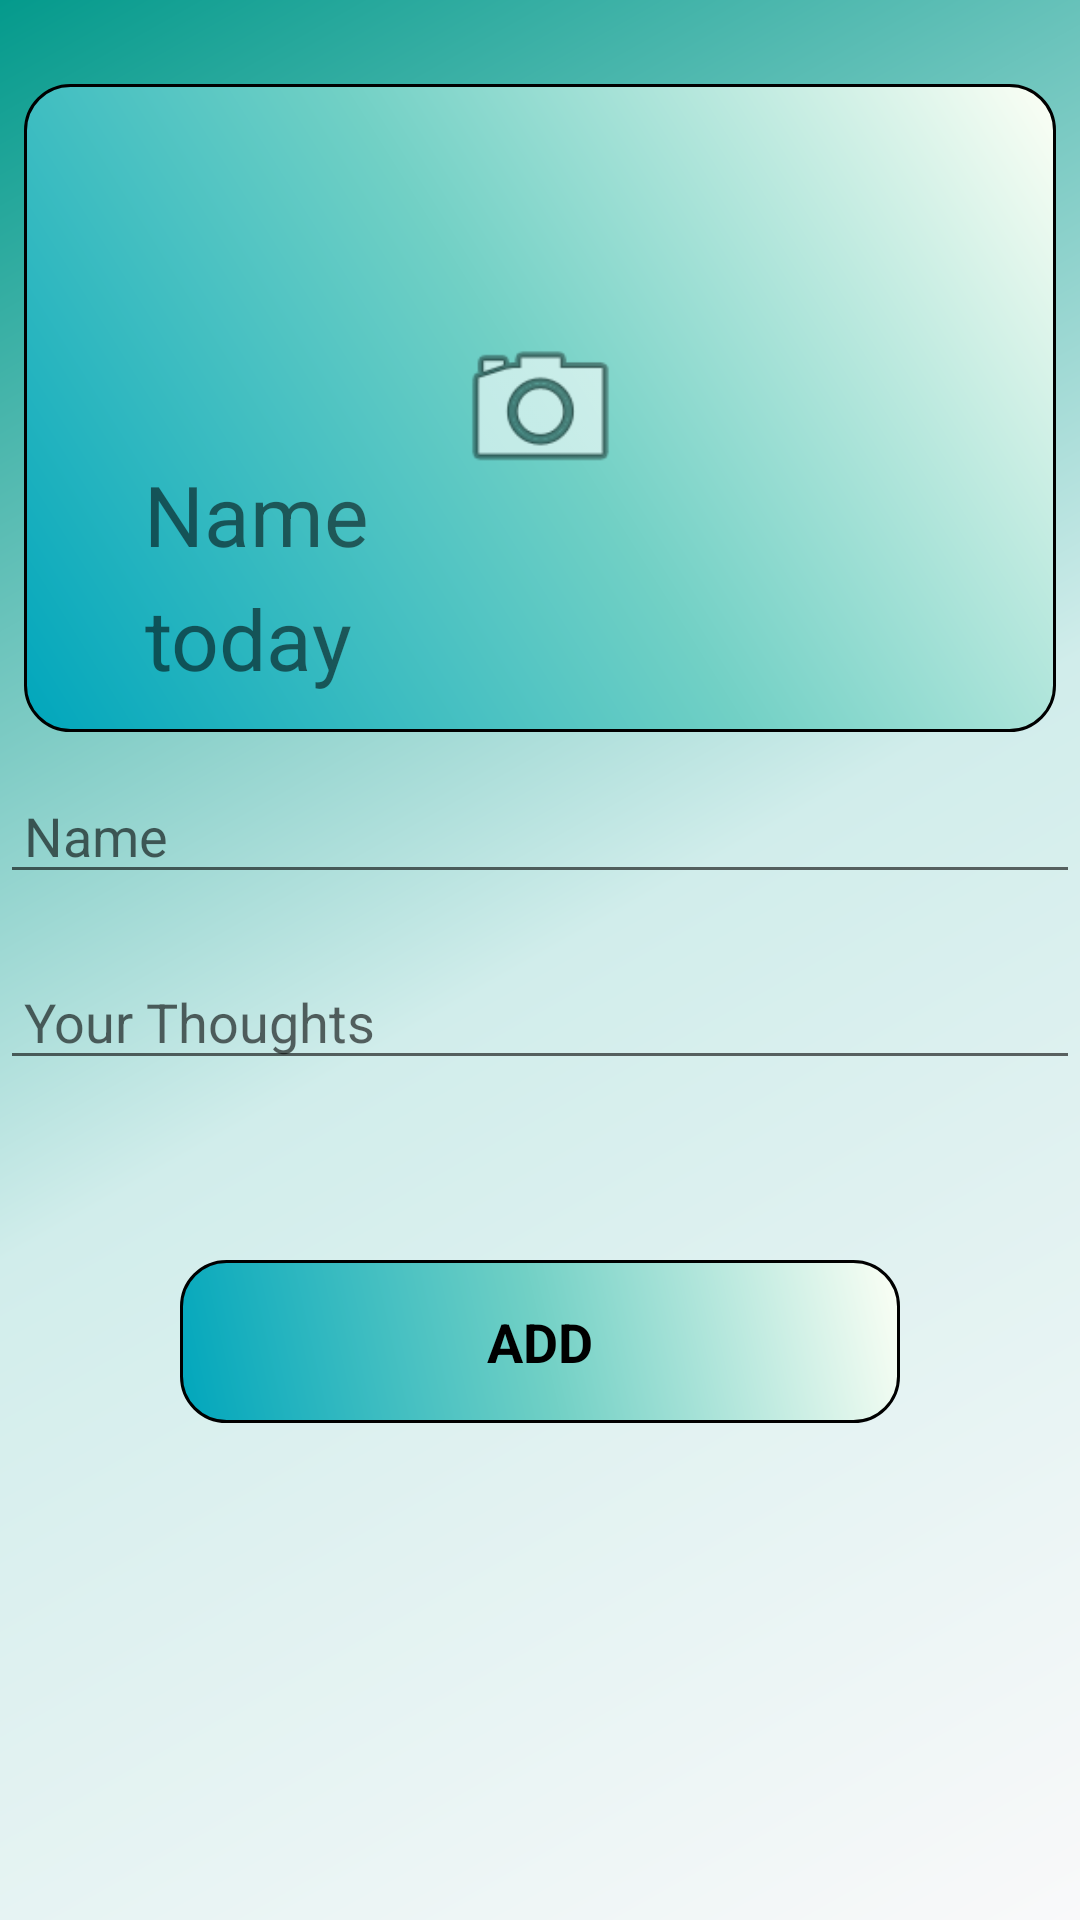

Where icons sit on this 1080×1920 app screen, as (x1, y1, x2, y2):
camera: (472, 320, 656, 497)
